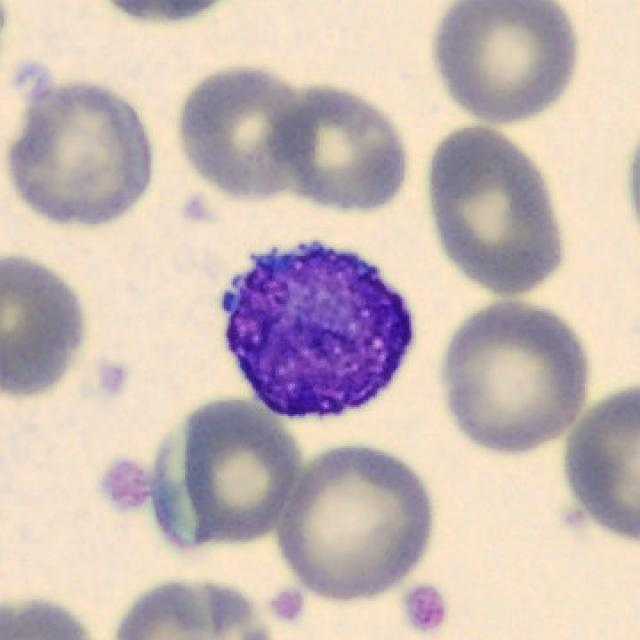Linfocito: (224, 244, 414, 418)
